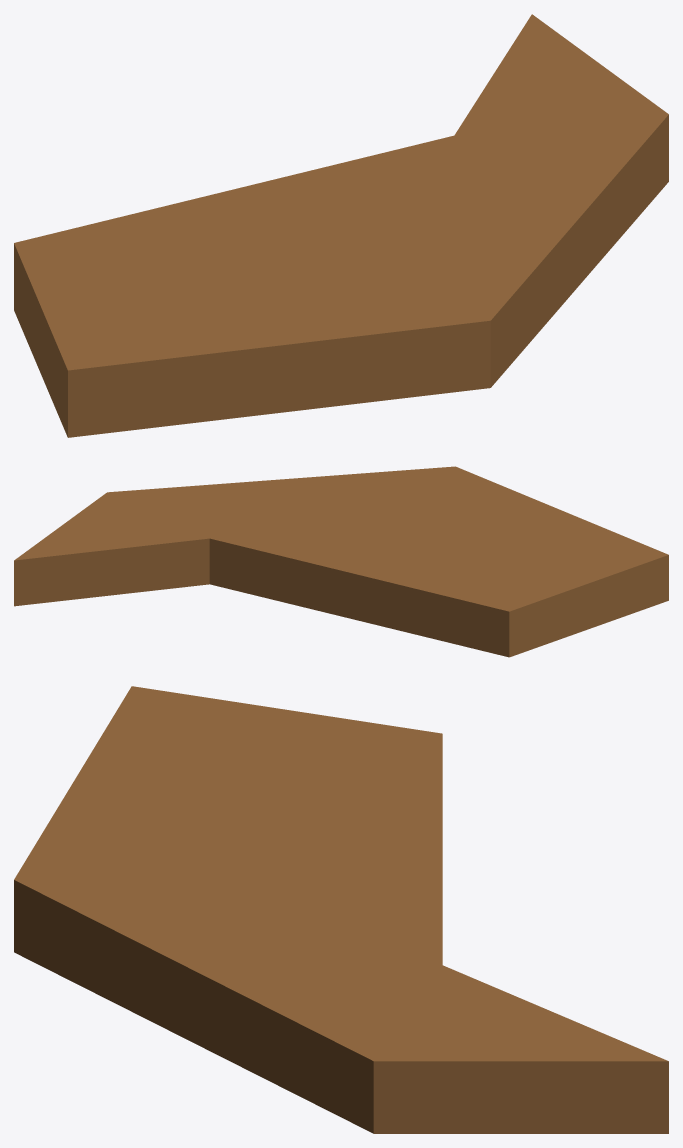
Rendered from x_proval_00_243_1_rmstrd.fbx.
3 views of the same model, one above another, from view 1: azimuth 30°, elevation 25°; view 2: azimuth 150°, elevation 25°; view 3: azimuth 270°, elevation 25° (orthographic). The views are drawn at different scales.
Parts seen in each view (by area): view 1: x_proval_00_243_1_rmstrd1; view 2: x_proval_00_243_1_rmstrd1; view 3: x_proval_00_243_1_rmstrd1.
Part boxes in pixels (bbox=[...]): x_proval_00_243_1_rmstrd1: bbox=[14, 14, 668, 437]; x_proval_00_243_1_rmstrd1: bbox=[14, 466, 668, 657]; x_proval_00_243_1_rmstrd1: bbox=[14, 686, 668, 1133].
Size of the model in its own units: 2.22 by 0.2 by 1.64.
